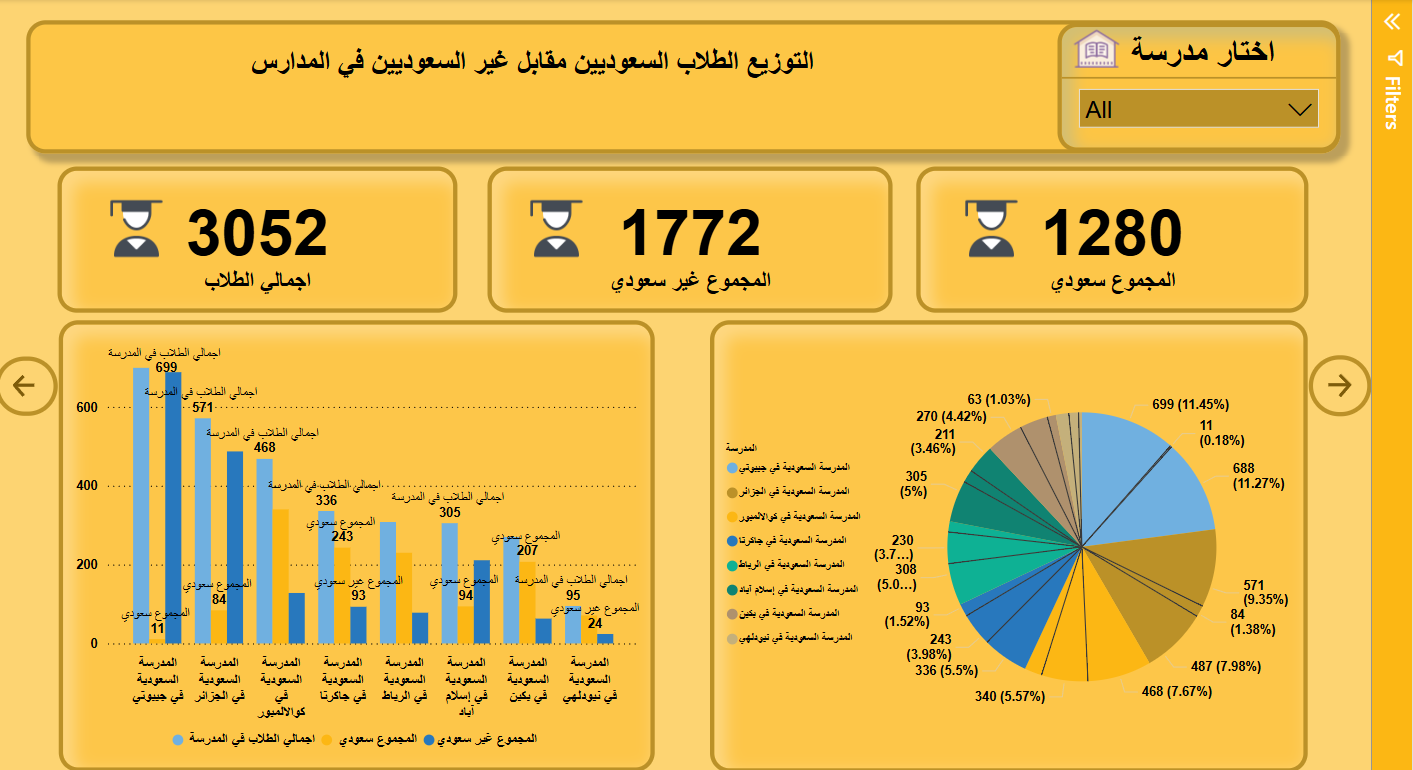

What the dashboard file says about the page in this screenshot:
{"tool":"powerbi","page":{"name":"Page 1","canvas":[1280,720],"ordinal":1},"visuals":[{"type":"actionButton","box":[0,332.5,58.3,55.1],"z":0},{"type":"actionButton","box":[1221.7,331.6,58.3,56.7],"z":1000},{"type":"textbox","box":[28.9,19.3,1222.2,123.9],"z":2000},{"type":"slicer","title":"اختار مدرسة","fields":{"Values":["Summary_Students.المدرسة"]},"box":[988.2,22,262.9,119.7],"z":3000},{"type":"clusteredColumnChart","title":"نسبة الطلاب السعوديين بواسطة المدرسة و عدد طلاب رياض أطفال سعودي","fields":{"Category":["Summary_Students.المدرسة"],"Y":["Sum(Number of Students in Saudi Schools Abroad2025.اجمالي الطلاب)","Sum(Number of Students in Saudi Schools Abroad2025.المجموع سعودي)","Sum(Number of Students in Saudi Schools Abroad2025.المجموع غير سعودي)"]},"box":[59.2,298.7,554.7,419.8],"z":4000},{"type":"pieChart","title":"نسبة الطلاب غير السعوديين بواسطة المدرسة و عدد طلاب رياض أطفال غير سعودي","fields":{"Category":["Summary_Students.المدرسة"],"Y":["Sum(Number of Students in Saudi Schools Abroad2025.اجمالي الطلاب)","Sum(Number of Students in Saudi Schools Abroad2025.المجموع سعودي)","Sum(Number of Students in Saudi Schools Abroad2025.المجموع غير سعودي)"]},"box":[664.8,298.7,556,421.2],"z":5000},{"type":"card","fields":{"Values":["Sum(Number of Students in Saudi Schools Abroad2025.Column)"]},"box":[57.8,155.5,371.6,136.3],"z":6000},{"type":"card","fields":{"Values":["Sum(Number of Students in Saudi Schools Abroad2025.المجموع غير سعودي)"]},"box":[458.3,155.5,377.1,136.3],"z":7000},{"type":"card","fields":{"Values":["Sum(Number of Students in Saudi Schools Abroad2025.المجموع سعودي)"]},"box":[857.5,155.5,364.7,136.3],"z":8000},{"type":"image","box":[987.6,19.7,75.7,54.5],"z":8001},{"type":"image","box":[100,175.7,63.6,75.7],"z":8002},{"type":"image","box":[490.8,175.7,63.6,75.7],"z":8003},{"type":"image","box":[895.2,175.7,63.6,75.7],"z":8004}]}

Visuals, with their boxes on the page's 1280x720 design canvas (x1, y1, x2, y2). These are canvas units, not pixel positions in the 1413x770 screenshot, which may show the page scaled, cropped or inside an application window:
actionButton: <region>0, 332, 58, 388</region>
actionButton: <region>1222, 332, 1280, 388</region>
textbox: <region>29, 19, 1251, 143</region>
"اختار مدرسة" slicer: <region>988, 22, 1251, 142</region>
"نسبة الطلاب السعوديين بواسطة المدرسة و عدد طلاب رياض أطفال سعودي" clusteredColumnChart: <region>59, 299, 614, 718</region>
"نسبة الطلاب غير السعوديين بواسطة المدرسة و عدد طلاب رياض أطفال غير سعودي" pieChart: <region>665, 299, 1221, 720</region>
card - Sum(Number of Students in Saudi Schools Abroad2025.Column): <region>58, 156, 429, 292</region>
card - Sum(Number of Students in Saudi Schools Abroad2025.المجموع غير سعودي): <region>458, 156, 835, 292</region>
card - Sum(Number of Students in Saudi Schools Abroad2025.المجموع سعودي): <region>858, 156, 1222, 292</region>
image: <region>988, 20, 1063, 74</region>
image: <region>100, 176, 164, 251</region>
image: <region>491, 176, 554, 251</region>
image: <region>895, 176, 959, 251</region>
